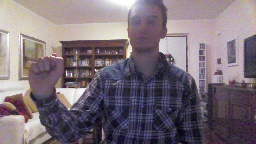Pugno: (27, 52, 65, 99)
